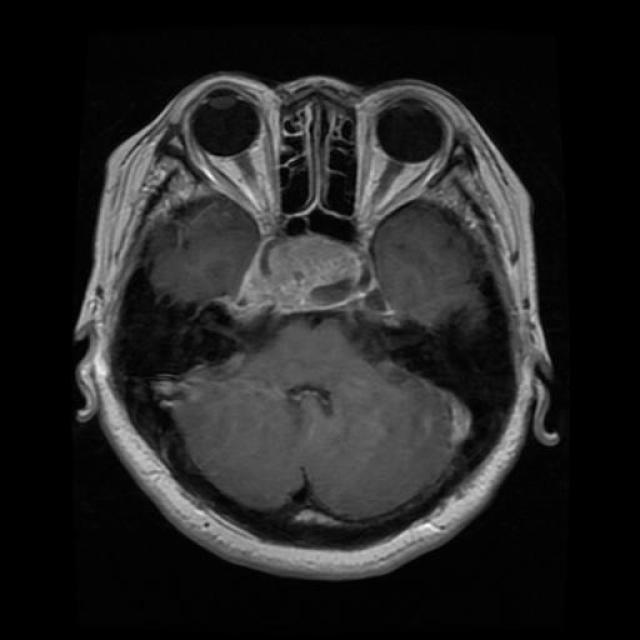pituitary: (245, 242, 398, 324)
